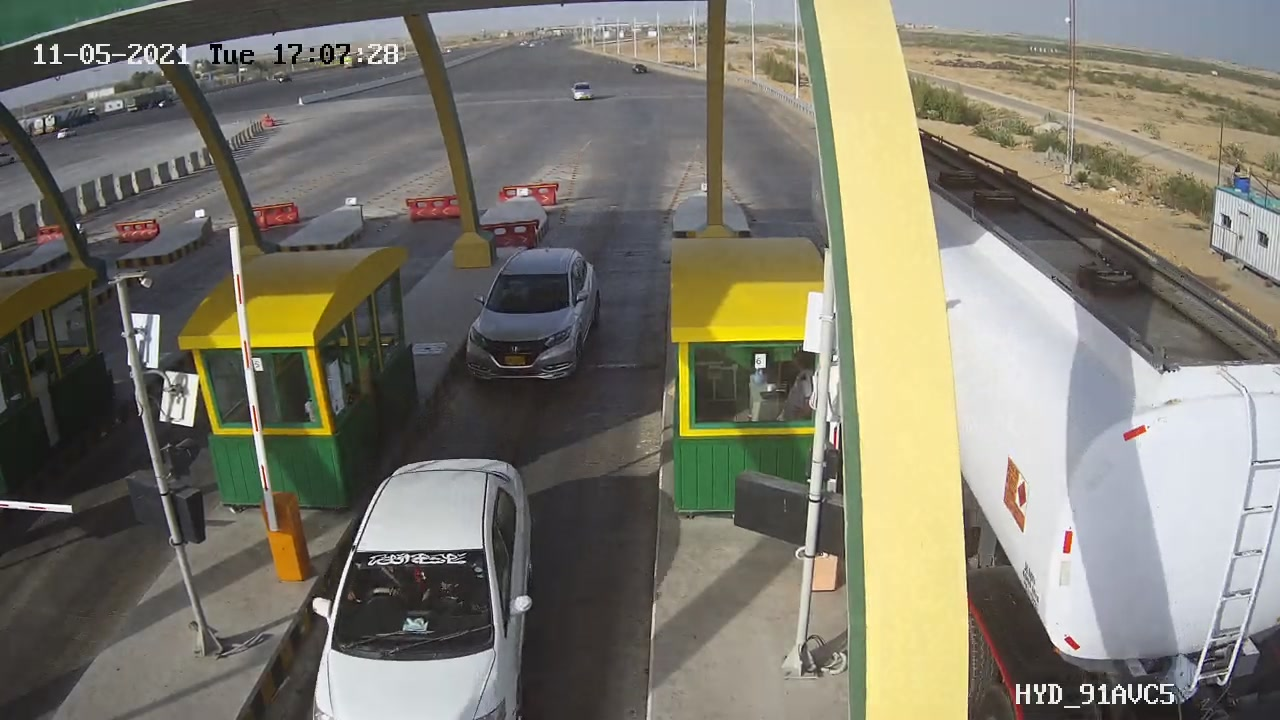F1: (448, 230, 626, 400)
